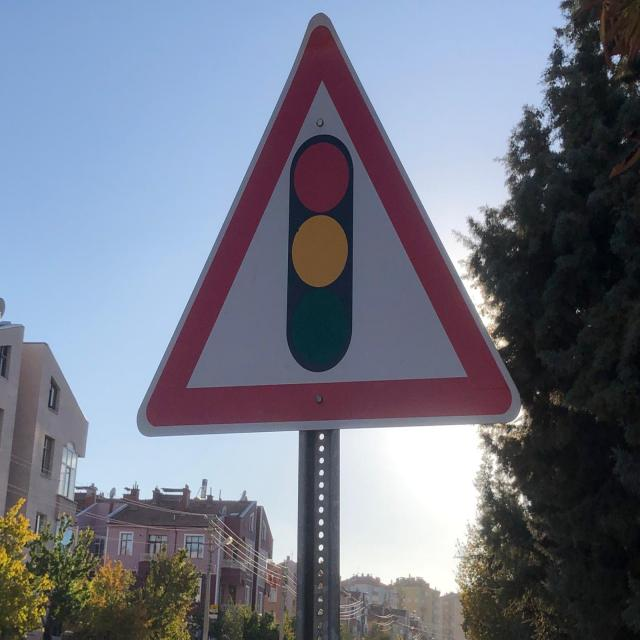light_traffic: (138, 3, 526, 444)
